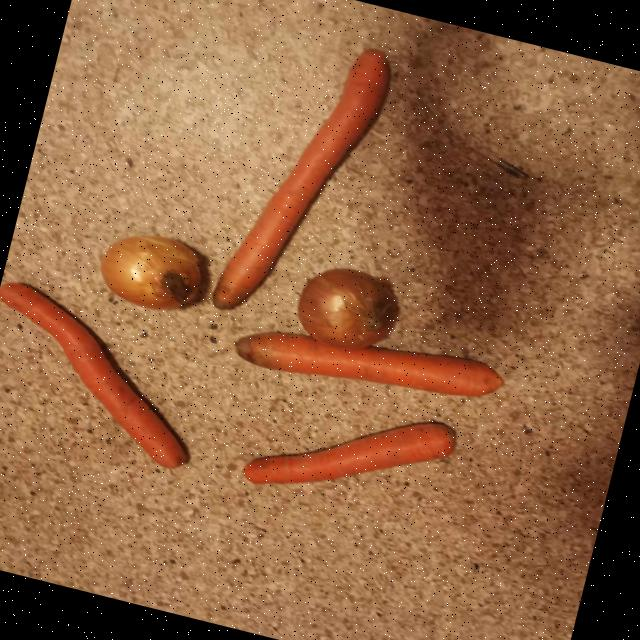carrot: (211, 48, 389, 308), (0, 281, 186, 467), (234, 331, 502, 395), (242, 422, 454, 482)
